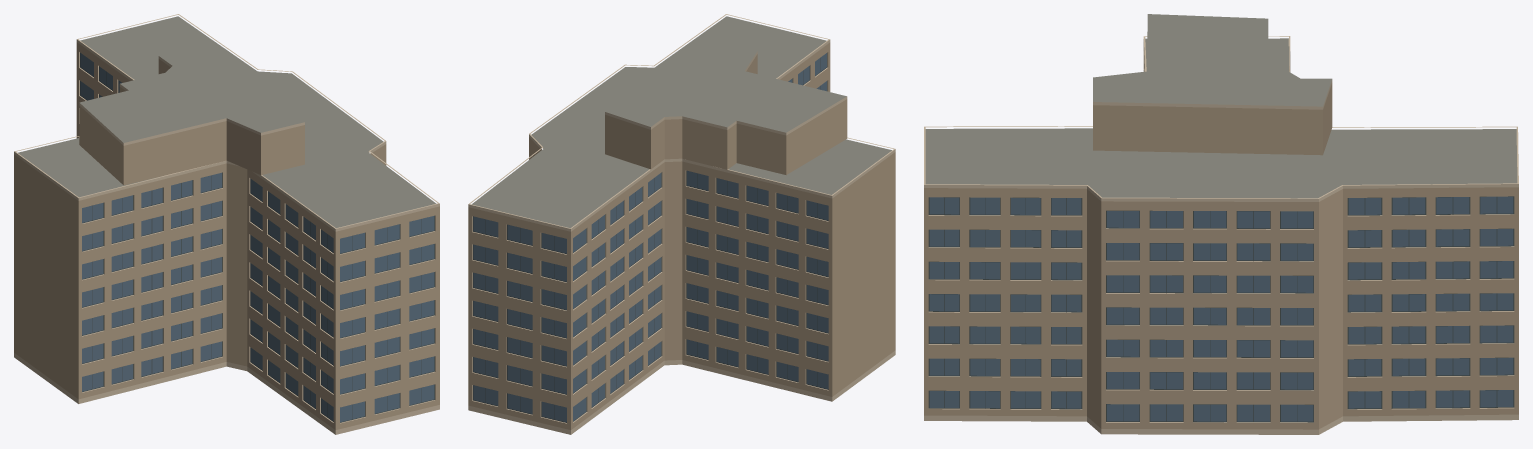
The model's file is dc-au-hughes-hall.detail.glb.
The picture shows the model from 3 angles, left to right: view 1: azimuth 30°, elevation 25°; view 2: azimuth 150°, elevation 25°; view 3: azimuth 270°, elevation 25°; orthographic projection. The views are drawn at different scales.
Parts seen in each view (by area): view 1: Hughes Hall; view 2: Hughes Hall; view 3: Hughes Hall.
Boxes of the visible parts, <box> form: Hughes Hall: <box>14,14,439,434</box>; Hughes Hall: <box>468,14,895,434</box>; Hughes Hall: <box>924,14,1518,434</box>.
Bounding box in the file's own units: 35.18 × 28.7 × 54.35.
